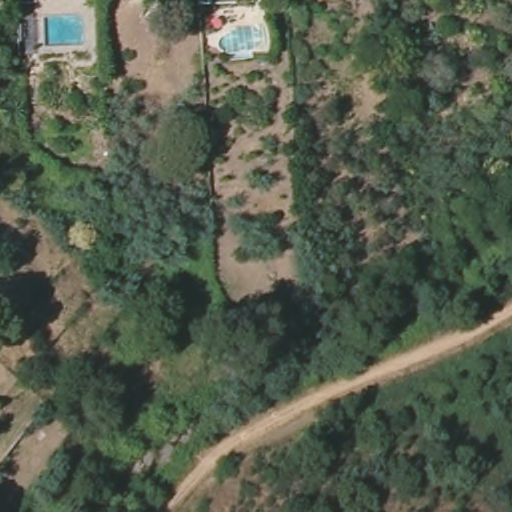pool: (214, 22, 267, 61), (37, 9, 89, 48)
